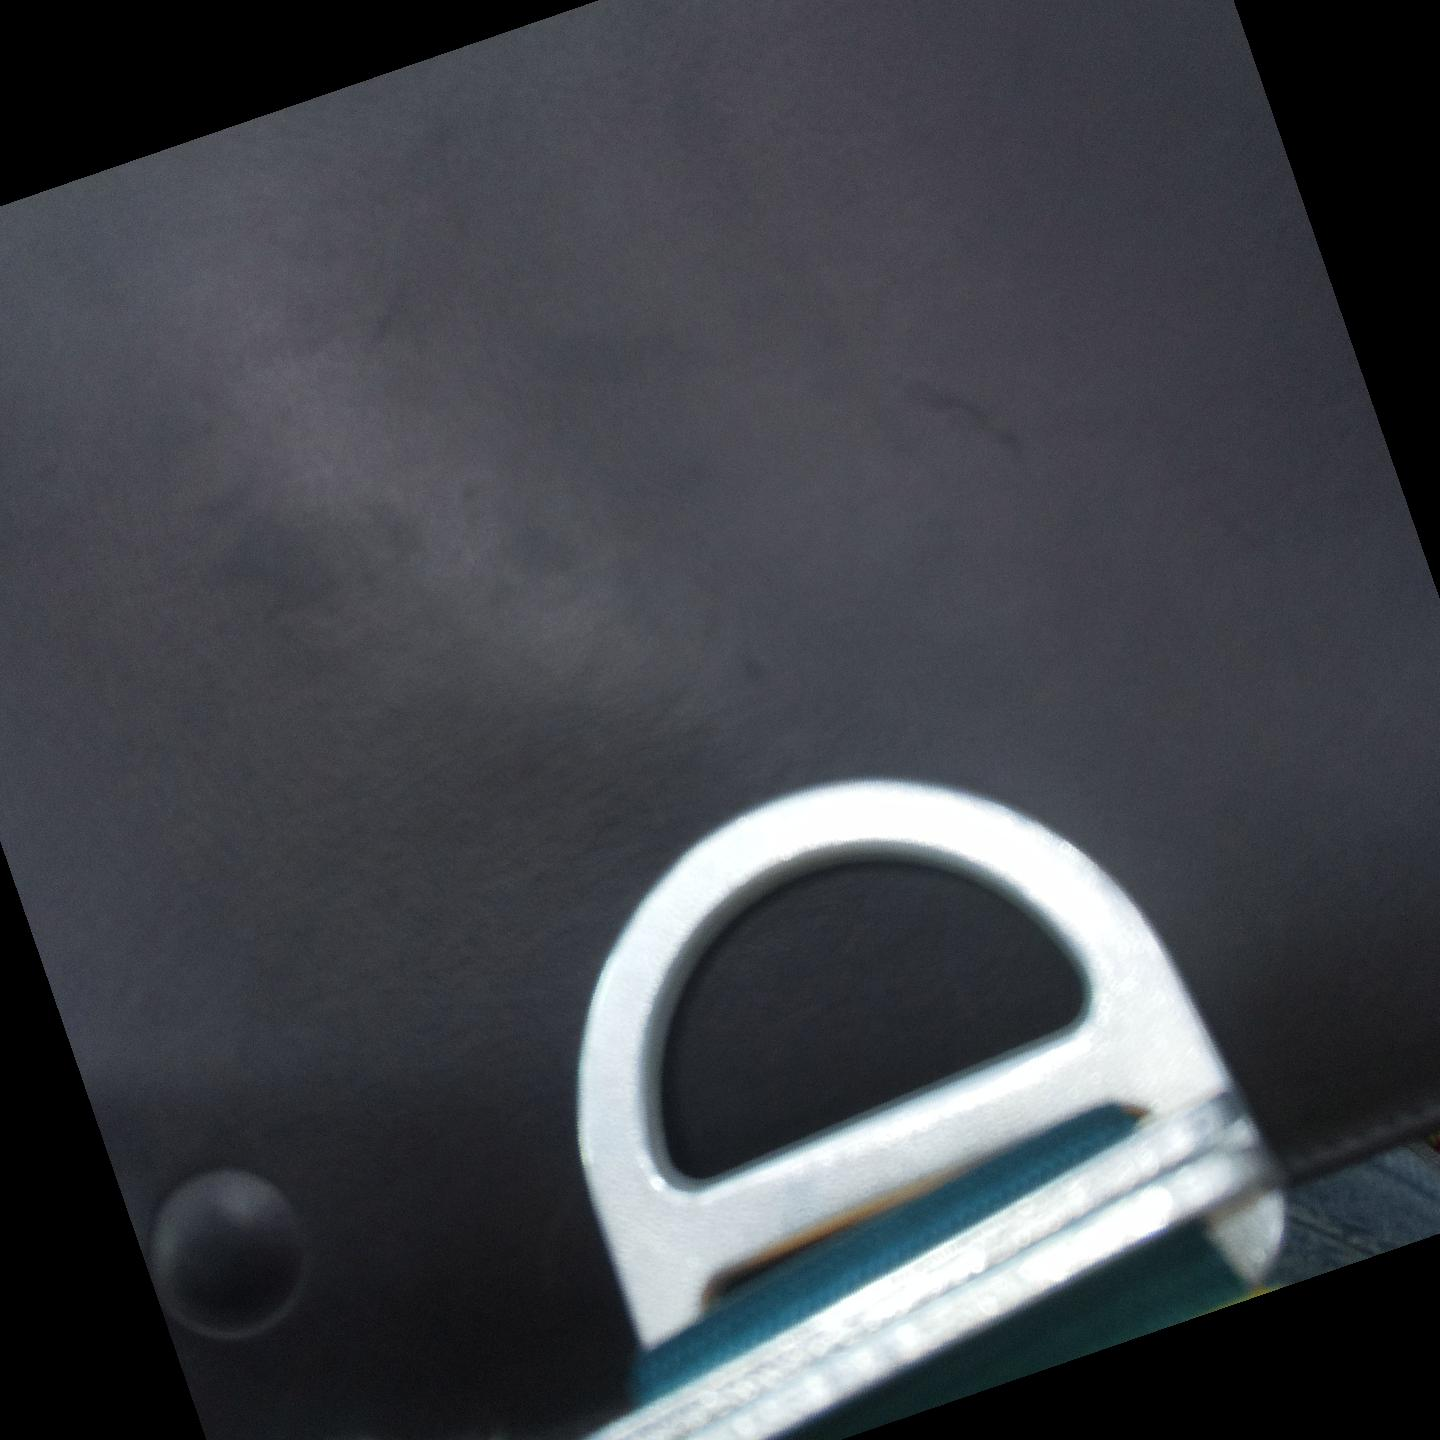UNSUCCESS: (516, 770, 1284, 1278)
